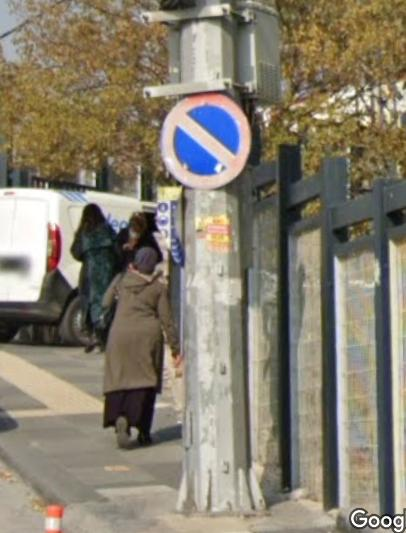nopark: (160, 94, 254, 185)
